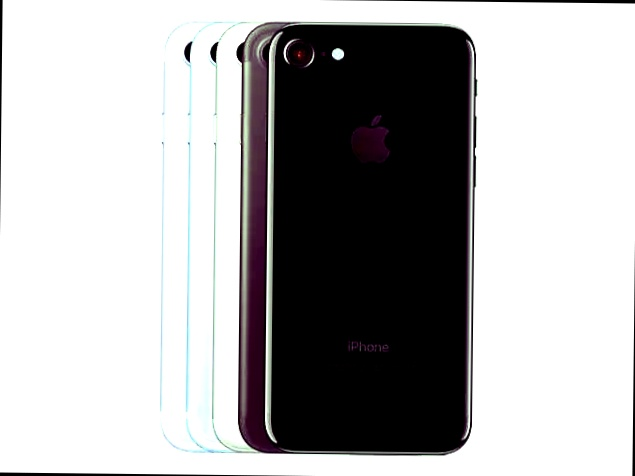iphone: (257, 29, 483, 470)
